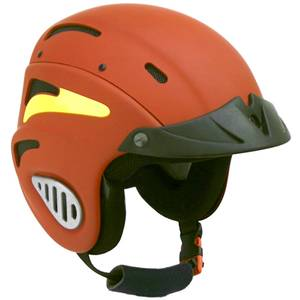helmet: (16, 17, 273, 231)
